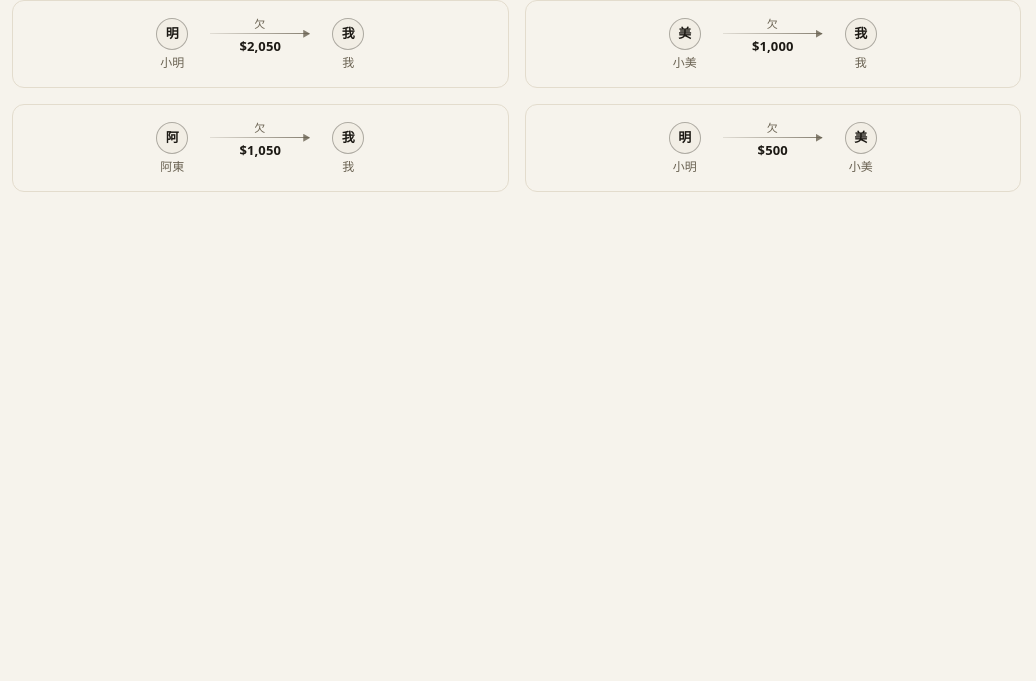
Test: SettlementView › positions the expanded form immediately below the active tile in narrow screen (1 column)
Click the button named "小明欠我 $2,050".
click(260, 44)  # box [12,0,508,88]
(page scrolled)
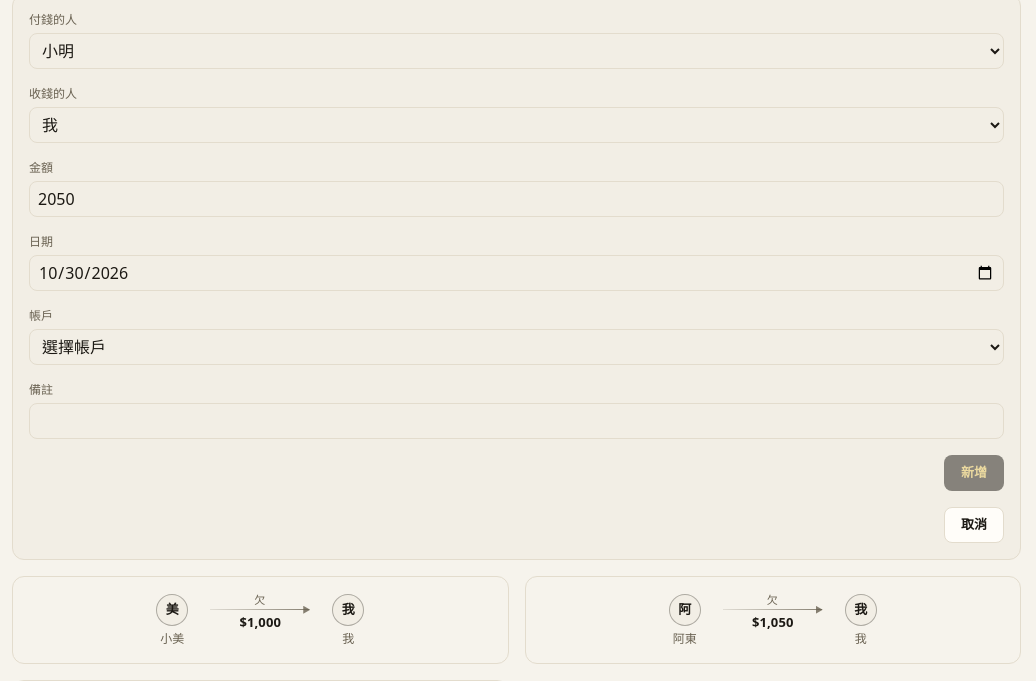
點擊 btn1，表單移到 btn1 下方、btn2 之前
Click the button named "小美欠我 $1,000".
click(260, 620)  # box [12,576,508,664]
(page scrolled)
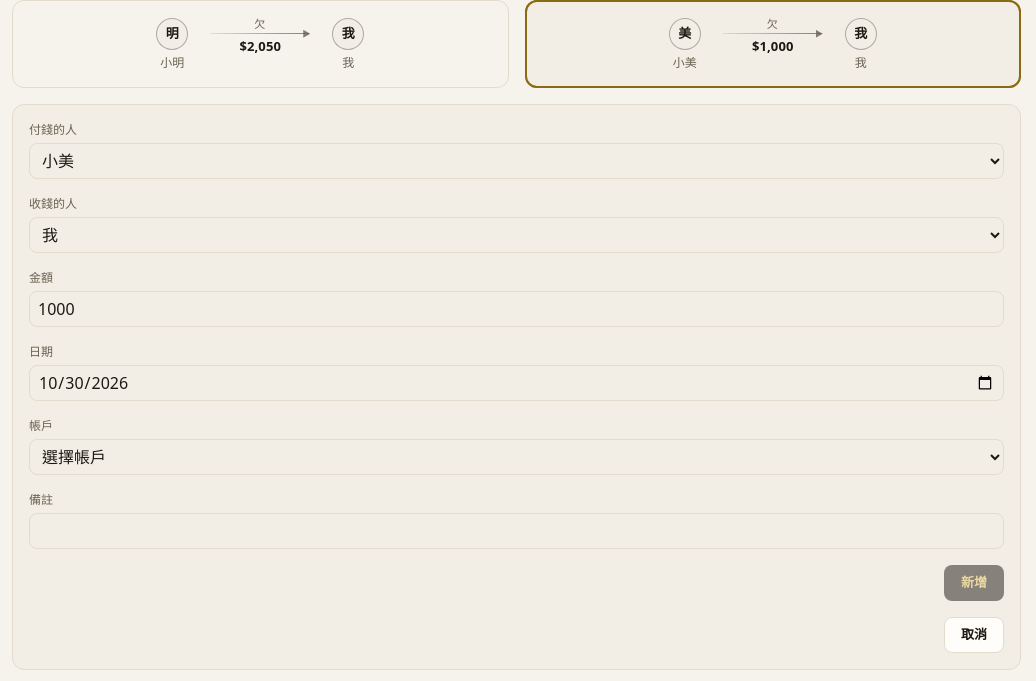
Expected: the button named "小明欠我 $2,050" is collapsed, [12,0,508,88]
Expected: the button named "小美欠我 $1,000" is expanded, [524,0,1021,88]
